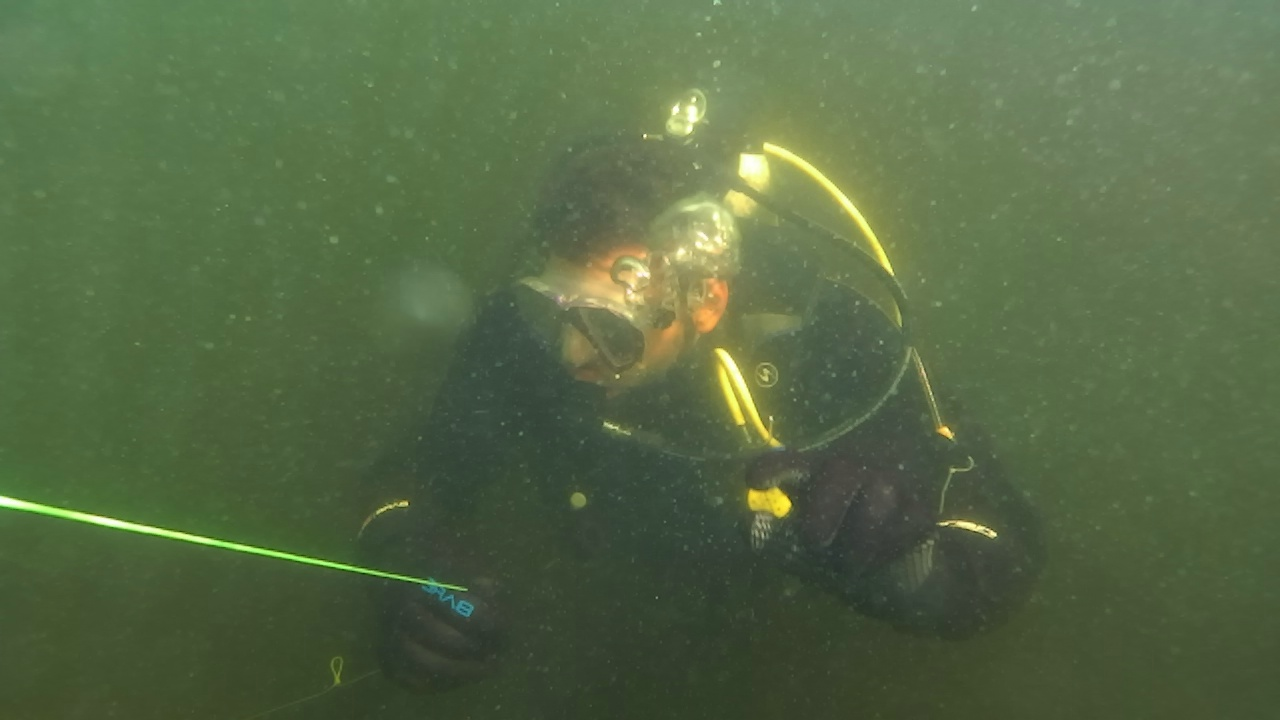Diver: (338, 124, 1062, 698)
Hand: (738, 430, 966, 622), (342, 512, 518, 702)
Head: (496, 134, 732, 430)
